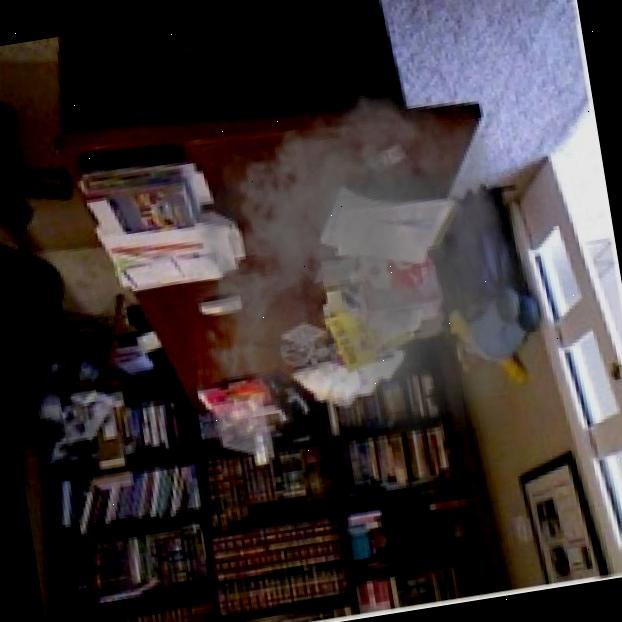smoke: (158, 51, 554, 469)
